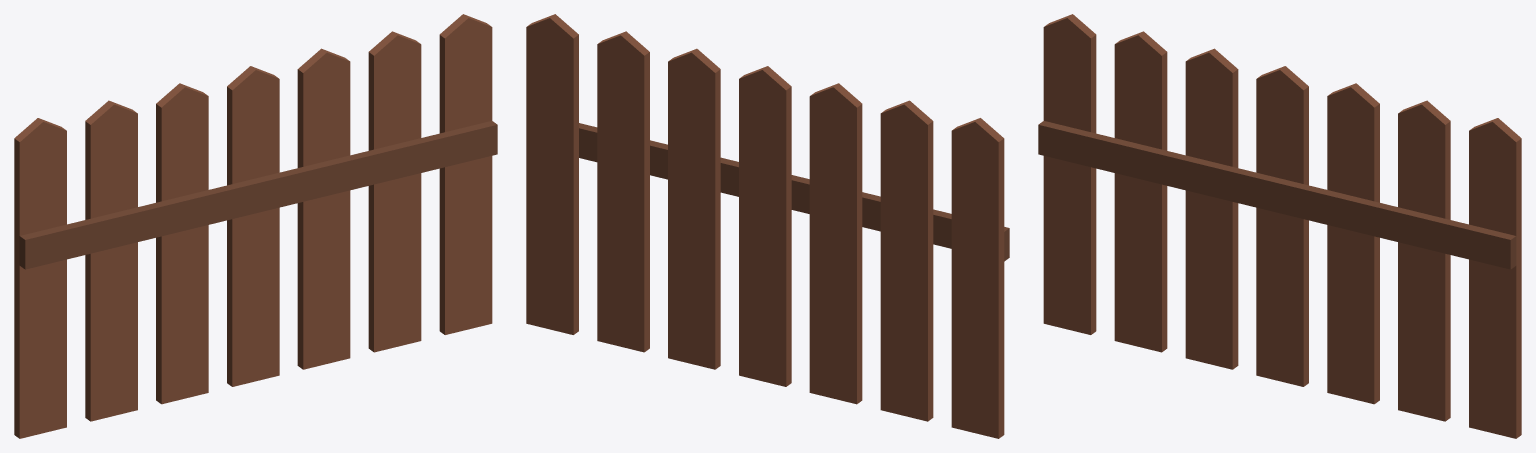
File: Saku.fbx
The picture shows the model from 3 angles, left to right: view 1: azimuth 30°, elevation 25°; view 2: azimuth 150°, elevation 25°; view 3: azimuth 330°, elevation 25°; orthographic projection.
Visible parts, largest first — view 1: Yoko_1, Tate_3, Tate_2, Tate_4, Tate_7, Tate_5, Tate_6, Tate_1; view 2: Tate_5, Tate_6, Tate_7, Tate_1, Tate_2, Tate_3, Tate_4, Yoko_1; view 3: Yoko_1, Tate_6, Tate_5, Tate_7, Tate_4, Tate_2, Tate_3, Tate_1.
Part boxes in pixels (x1,y1,x2,y2): Yoko_1: (19, 121, 497, 269); Tate_3: (368, 31, 421, 352); Tate_2: (297, 48, 350, 369); Tate_4: (439, 14, 492, 334); Tate_7: (14, 118, 66, 438); Tate_5: (156, 83, 208, 404); Tate_6: (85, 100, 137, 421); Tate_1: (227, 66, 279, 386); Tate_5: (809, 83, 862, 404); Tate_6: (880, 100, 933, 421); Tate_7: (951, 118, 1004, 438); Tate_1: (739, 66, 791, 386); Tate_2: (668, 48, 720, 369); Tate_3: (597, 31, 649, 352); Tate_4: (526, 14, 578, 334); Yoko_1: (579, 123, 1009, 261); Yoko_1: (1038, 121, 1516, 269); Tate_6: (1114, 31, 1167, 352); Tate_5: (1185, 48, 1238, 369); Tate_7: (1043, 14, 1096, 334); Tate_4: (1469, 118, 1521, 438); Tate_2: (1327, 83, 1379, 404); Tate_3: (1398, 100, 1450, 421); Tate_1: (1256, 66, 1308, 386).
Size of the model in its own units: 1000 by 630 by 40.
